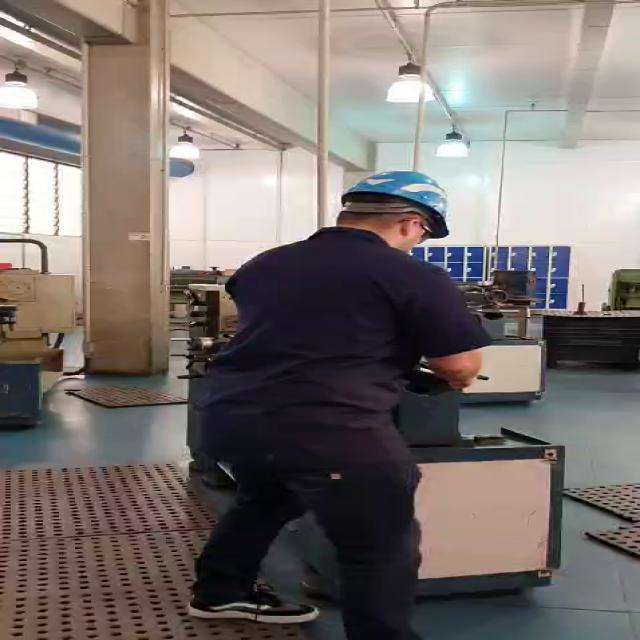oculos-epi: (395, 206, 444, 245)
